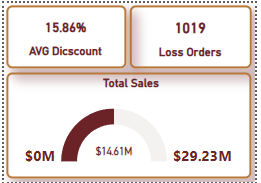

The page's visual inventory and layout, read from the dashboard file:
{"tool":"powerbi","page":{"name":"Toltip","canvas":[210,150],"ordinal":6},"visuals":[{"type":"card","fields":{"Values":["DAX_Measures.AVG Dicscount"]},"box":[2,2,100,53],"z":0},{"type":"card","fields":{"Values":["DAX_Measures.Loss Orders"]},"box":[105,2,102,53],"z":1000},{"type":"gauge","fields":{"Y":["DAX_Measures.Total Sales"]},"box":[2,58,205,89],"z":2000}]}

Visuals, with their boxes in screenshot pixels (x1, y1, x2, y2), scaled from the page's 210x150 canvas onto the 261x183 screenshot:
card - DAX_Measures.AVG Dicscount: x1=2, y1=2, x2=127, y2=67
card - DAX_Measures.Loss Orders: x1=130, y1=2, x2=257, y2=67
gauge - DAX_Measures.Total Sales: x1=2, y1=71, x2=257, y2=179
